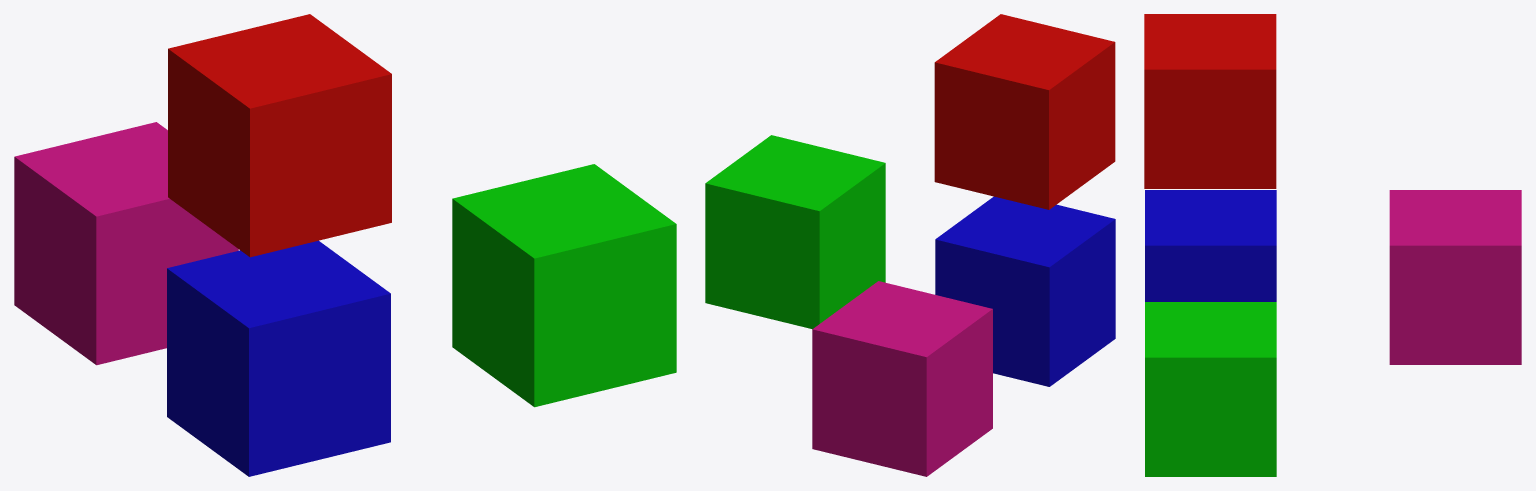
The model's file is cubes.obj.
3 views of the same model, side by side, from view 1: azimuth 30°, elevation 25°; view 2: azimuth 150°, elevation 25°; view 3: azimuth 270°, elevation 25° (orthographic). The views are drawn at different scales.
Visible parts, largest first — view 1: Cube.002, Cube.003, Cube.001, Cube; view 2: Cube.003, Cube, Cube.002, Cube.001; view 3: Cube, Cube.003, Cube.002, Cube.001.
Part boxes in pixels (x1,y1,x2,y2): Cube.002: [452, 164, 676, 407]; Cube.003: [168, 14, 391, 257]; Cube.001: [167, 240, 390, 476]; Cube: [14, 122, 238, 365]; Cube.003: [934, 14, 1115, 209]; Cube: [812, 281, 992, 476]; Cube.002: [705, 135, 885, 329]; Cube.001: [935, 196, 1115, 386]; Cube: [1389, 190, 1521, 364]; Cube.003: [1144, 14, 1276, 188]; Cube.002: [1145, 302, 1276, 476]; Cube.001: [1145, 190, 1276, 301].
Size of the model in its own units: 6.02 by 4.95 by 5.72.
